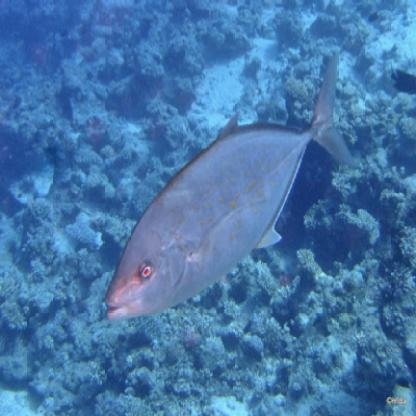jack: (98, 44, 367, 318)
